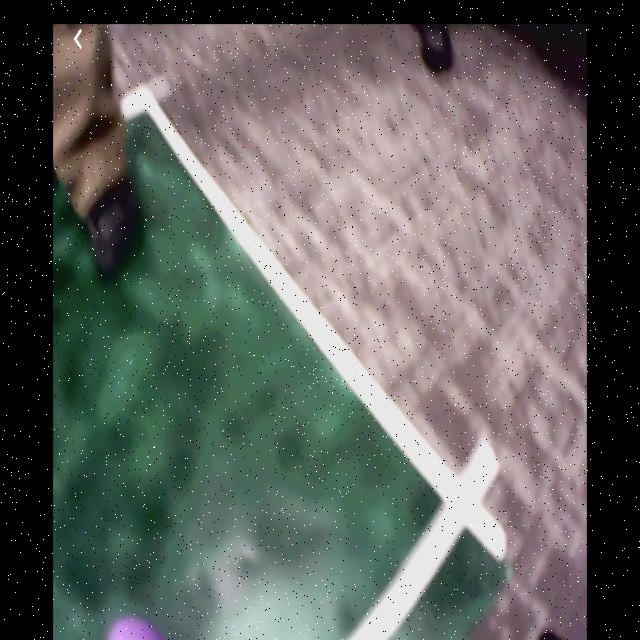ball: (106, 615, 164, 640)
